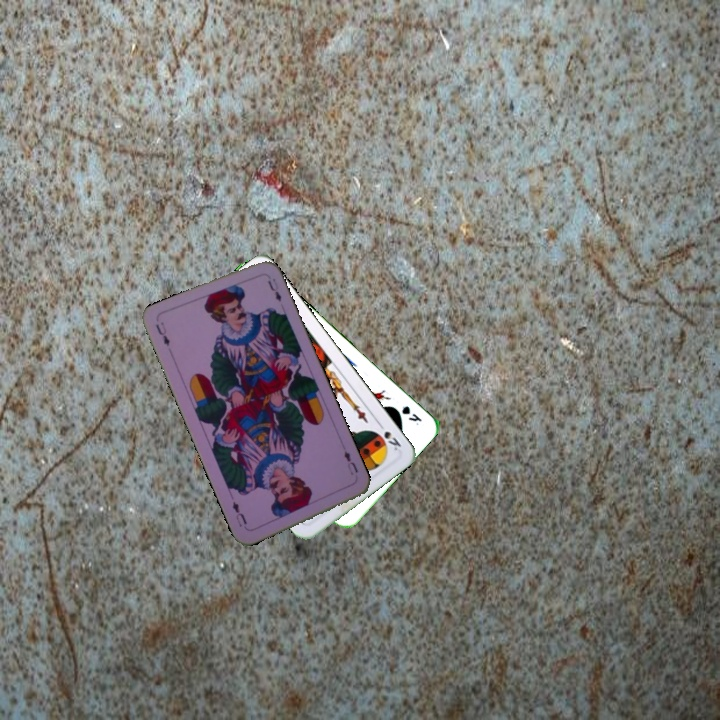EU: (151, 318, 172, 349), (340, 447, 360, 477)
GK: (397, 402, 424, 428)
SK: (374, 418, 404, 453)
